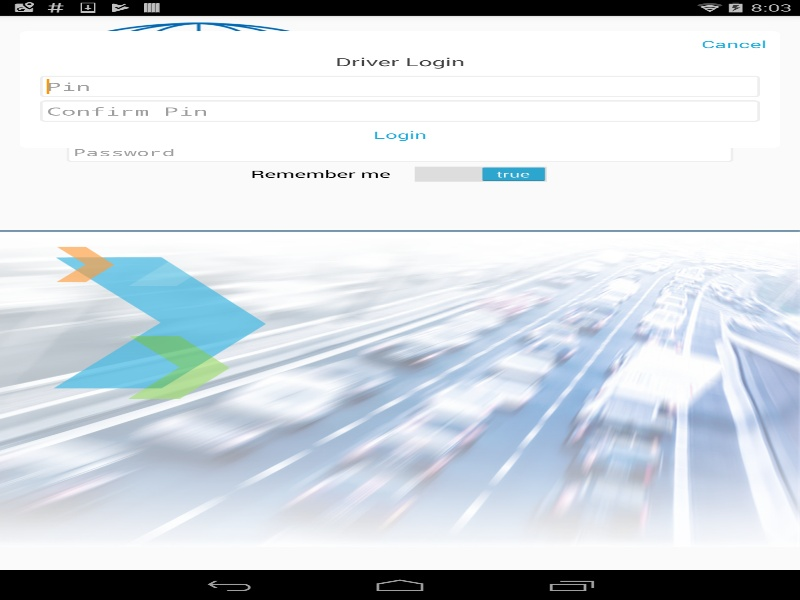Input: (40, 75, 760, 97), (40, 100, 760, 121)
